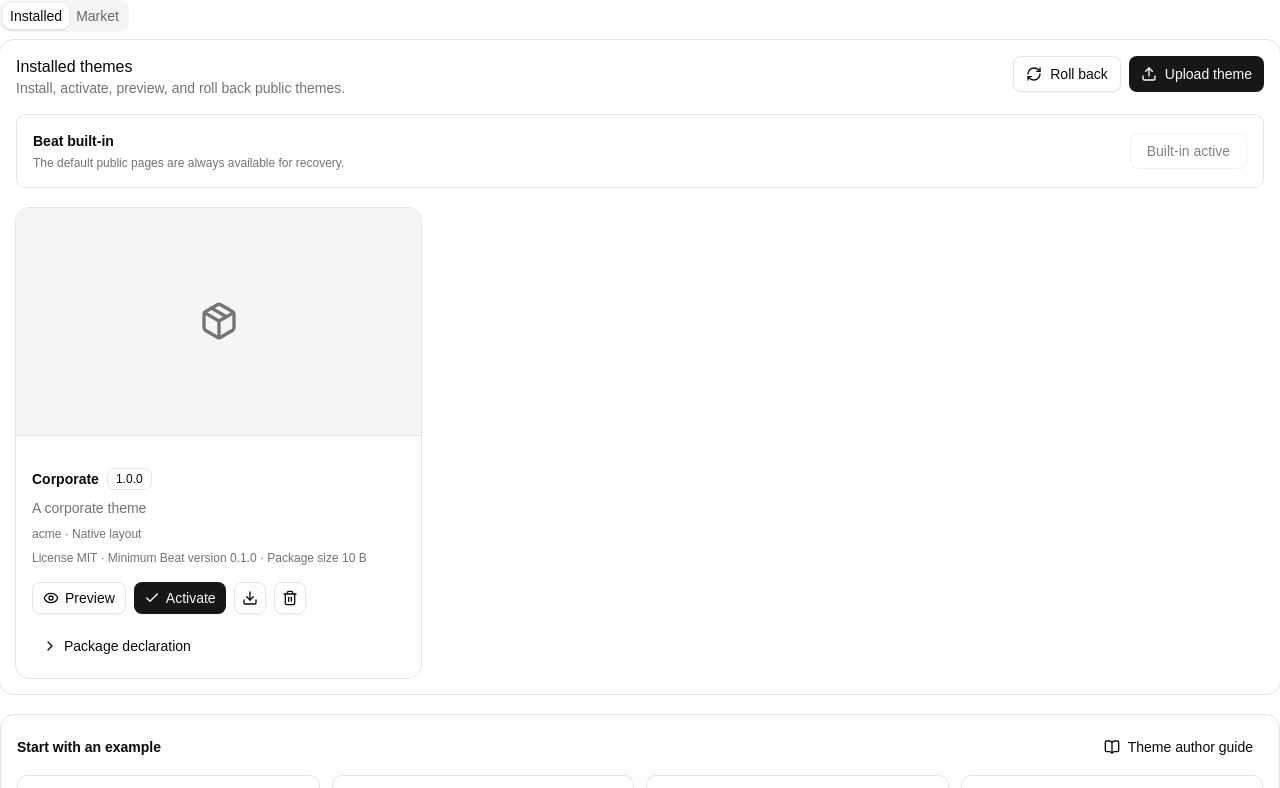
Test case: themes panel error branches › surfaces delete error
This screenshot has width=1280, height=788.
Click the button named "Delete" at (290, 598), box 274,582 -> 306,614
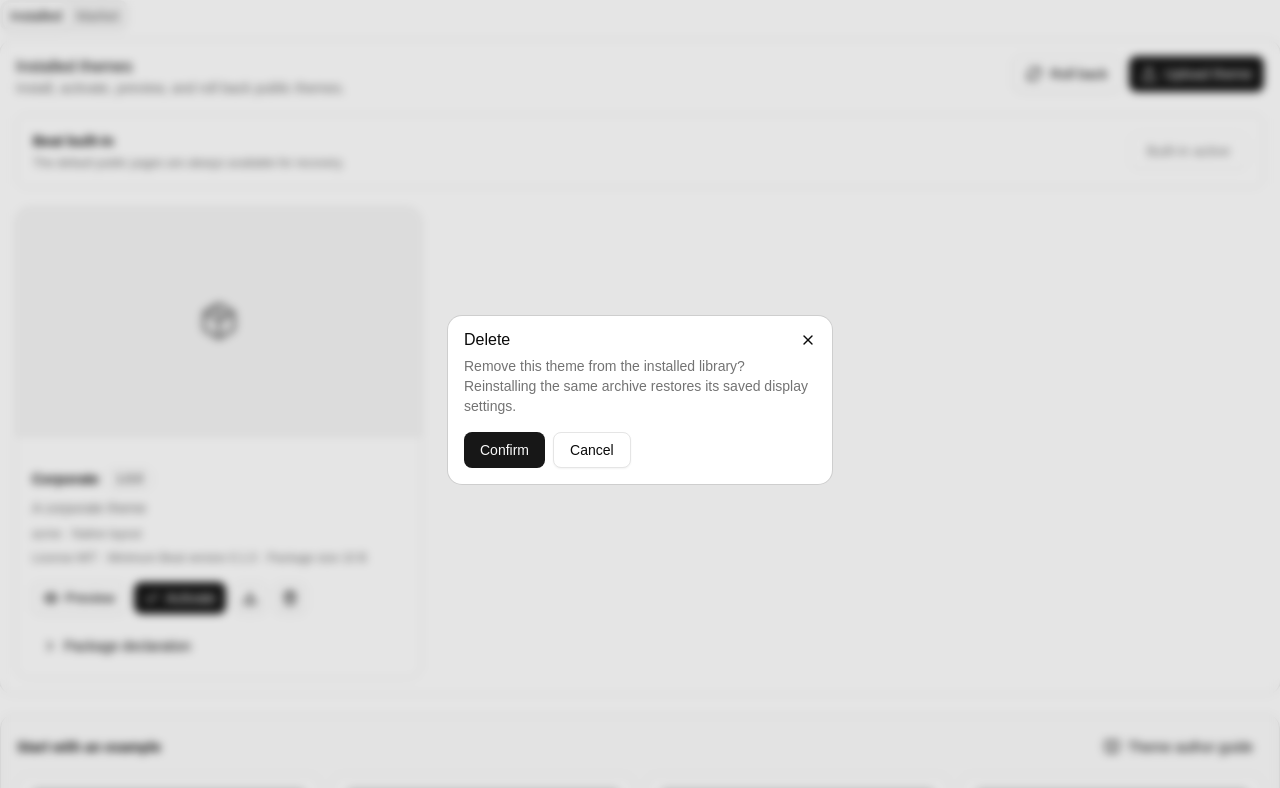
Click the button "Confirm" at (504, 450), box 464,432 -> 545,468
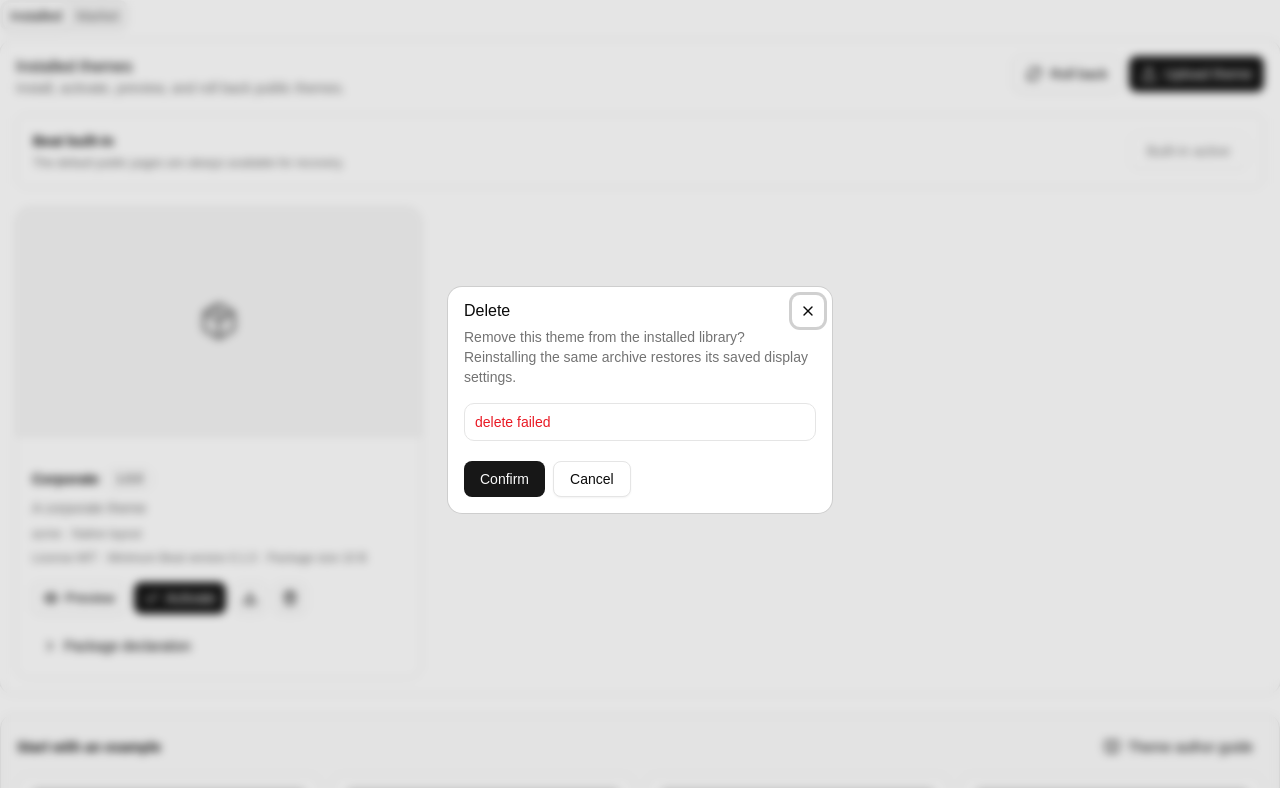
Result: the text "delete failed" is shown at 475,414 -> 550,430
